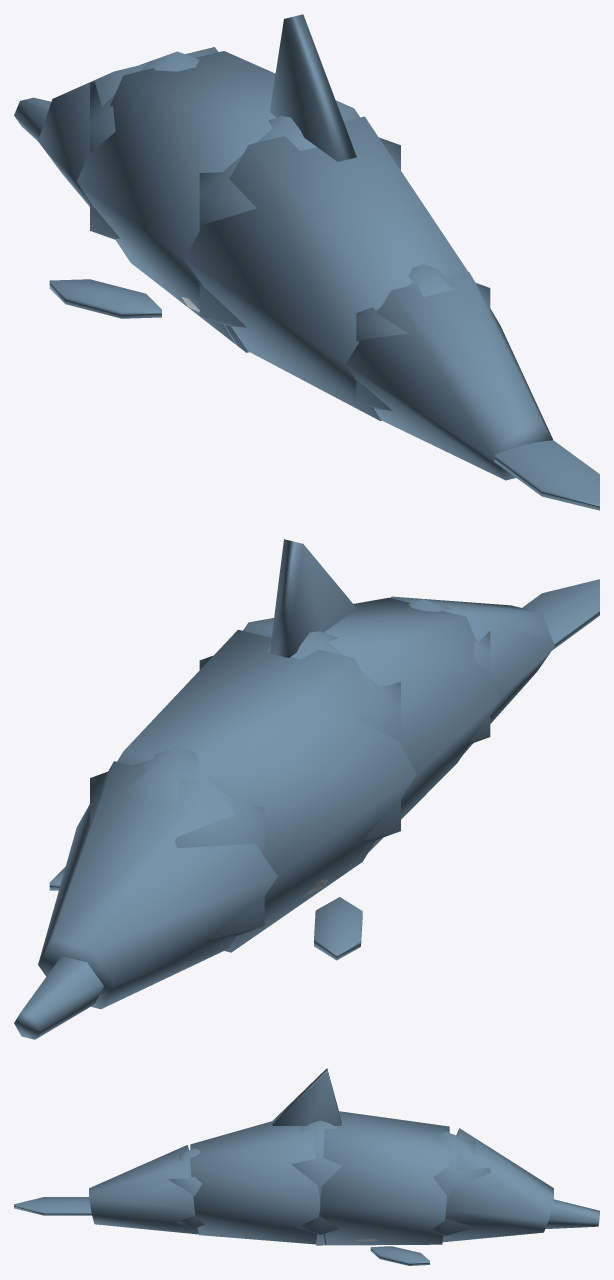
The model's file is dolphin_low.glb.
3 renders of one model, top to bottom at view 1: azimuth 30°, elevation 25°; view 2: azimuth 150°, elevation 25°; view 3: azimuth 270°, elevation 25°, orthographic. The views are drawn at different scales.
Size of the model in its own units: 0.7627 by 0.8161 by 2.56.
